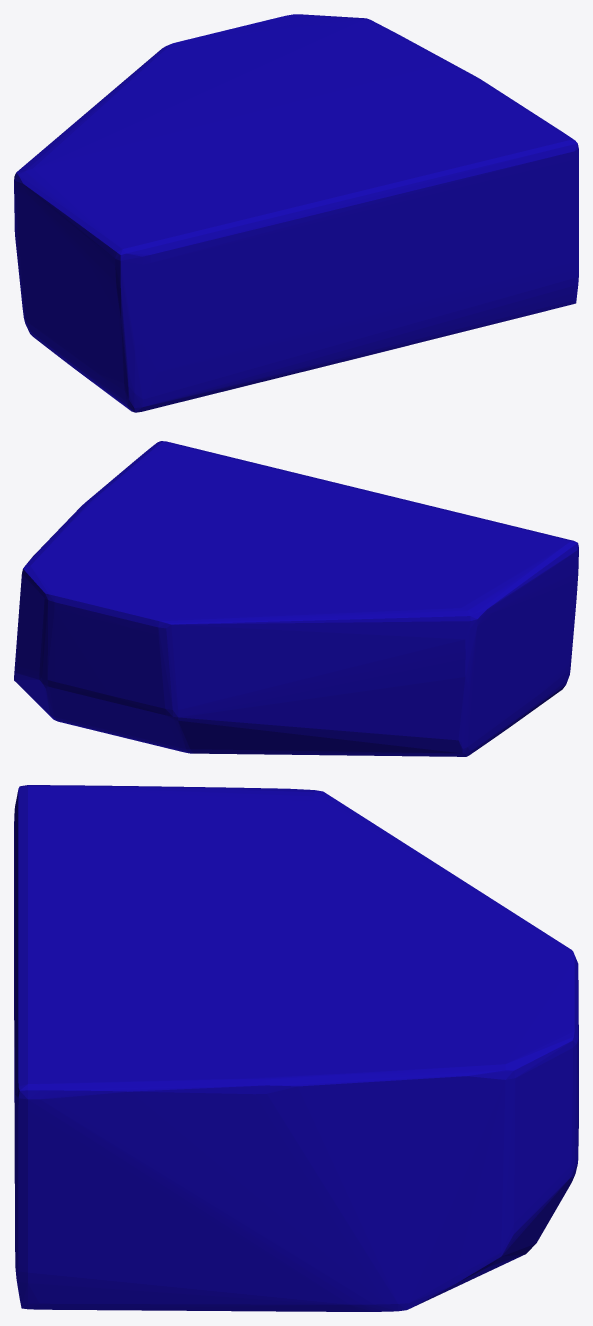
3 renders of one model, top to bottom at view 1: azimuth 30°, elevation 25°; view 2: azimuth 150°, elevation 25°; view 3: azimuth 270°, elevation 25°, orthographic. The views are drawn at different scales.
Bounding box in the file's own units: 0.1859 × 0.0637 × 0.1443.
